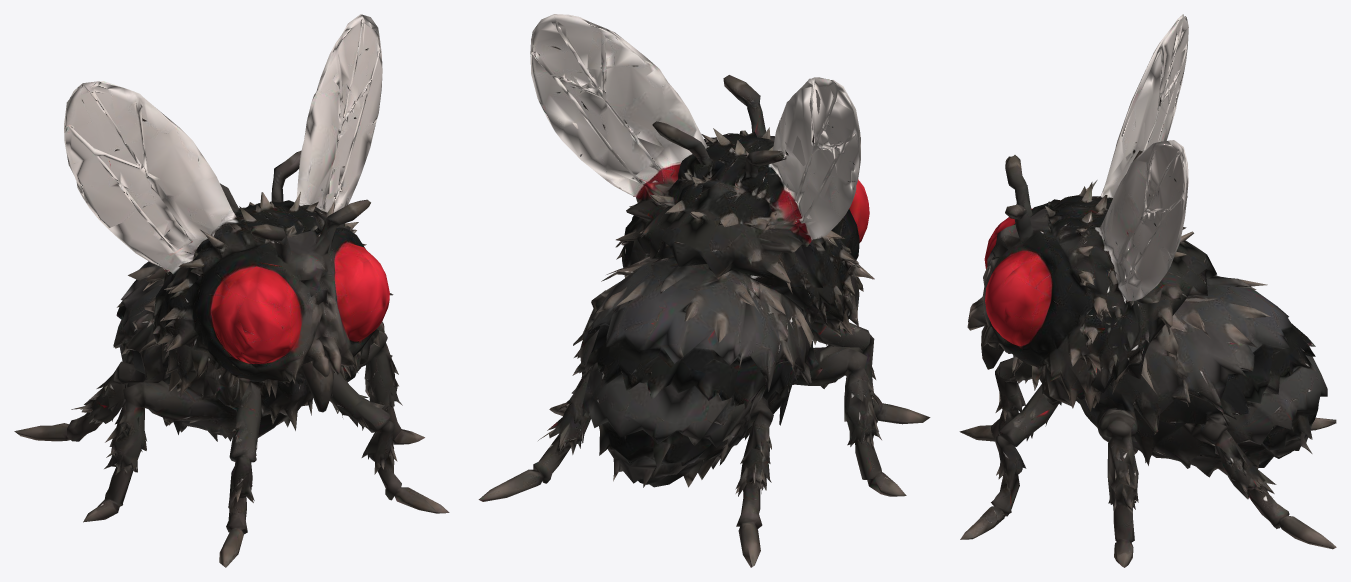
File: boss_fly.glb
The picture shows the model from 3 angles, left to right: view 1: azimuth 30°, elevation 25°; view 2: azimuth 150°, elevation 25°; view 3: azimuth 270°, elevation 25°; orthographic projection. The views are drawn at different scales.
Size of the model in its own units: 1.66 by 1.9 by 1.6.
1 material, 1 textured.
